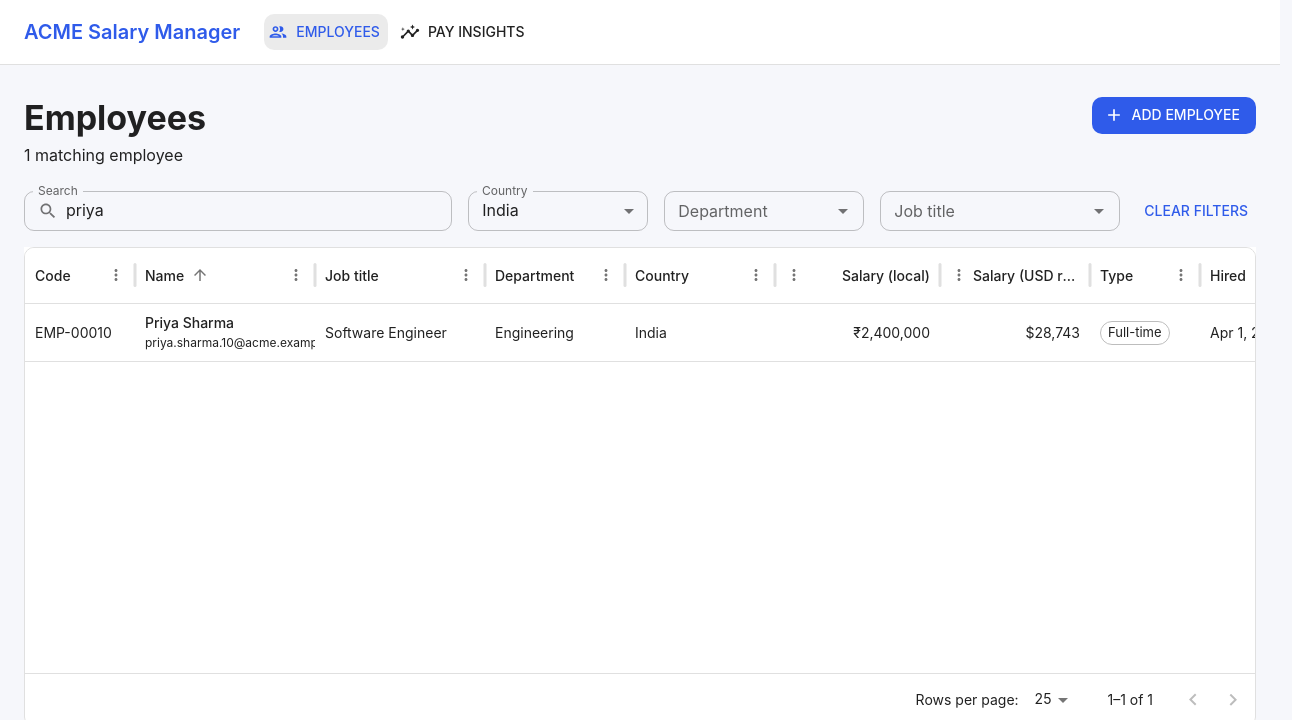
Test case: EmployeesPage › clears all filters, including the search box
The width and height of the screenshot is (1292, 720).
Check: the text "Priya Sharma" is shown, box [145,314,234,331]
Click the button "Clear filters". click: (1196, 211)
box: [1136,191,1256,231]
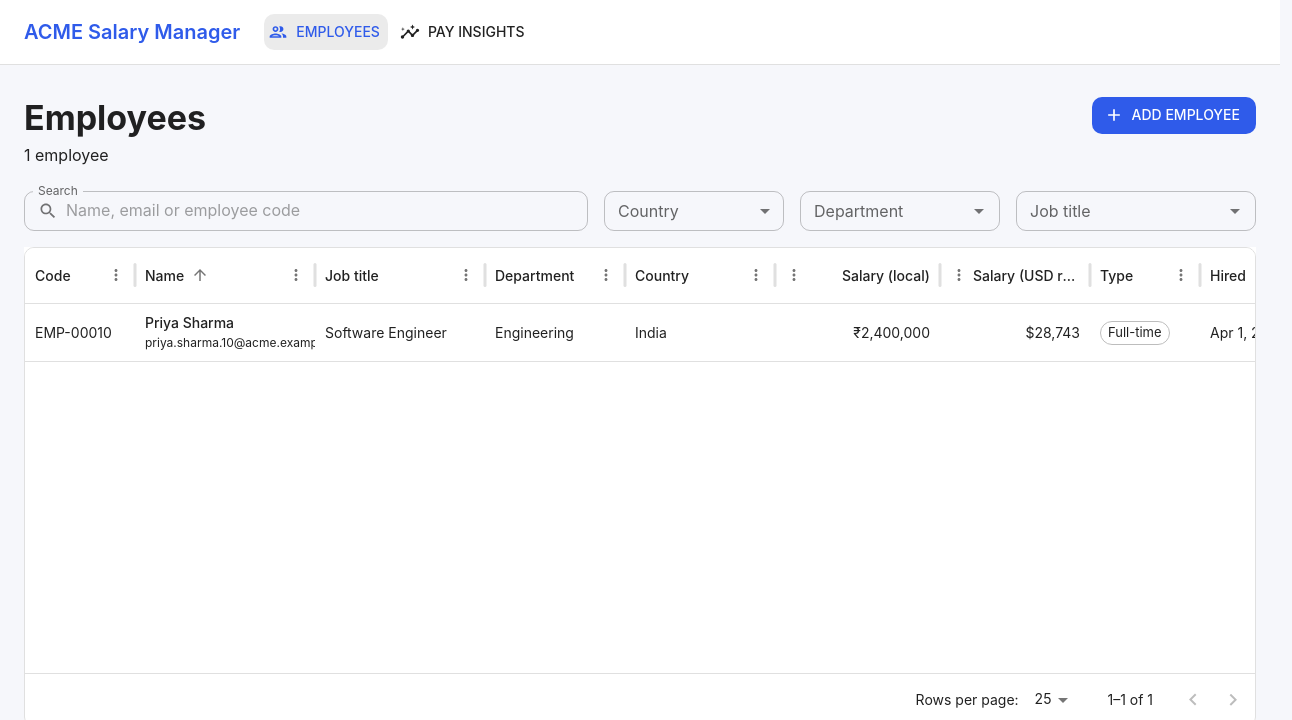
Check: the field labelled "Search" is empty, box [66,191,588,231]
Check: the button "Clear filters" is gone
